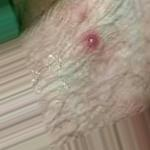Ants: (77, 26, 107, 57)
